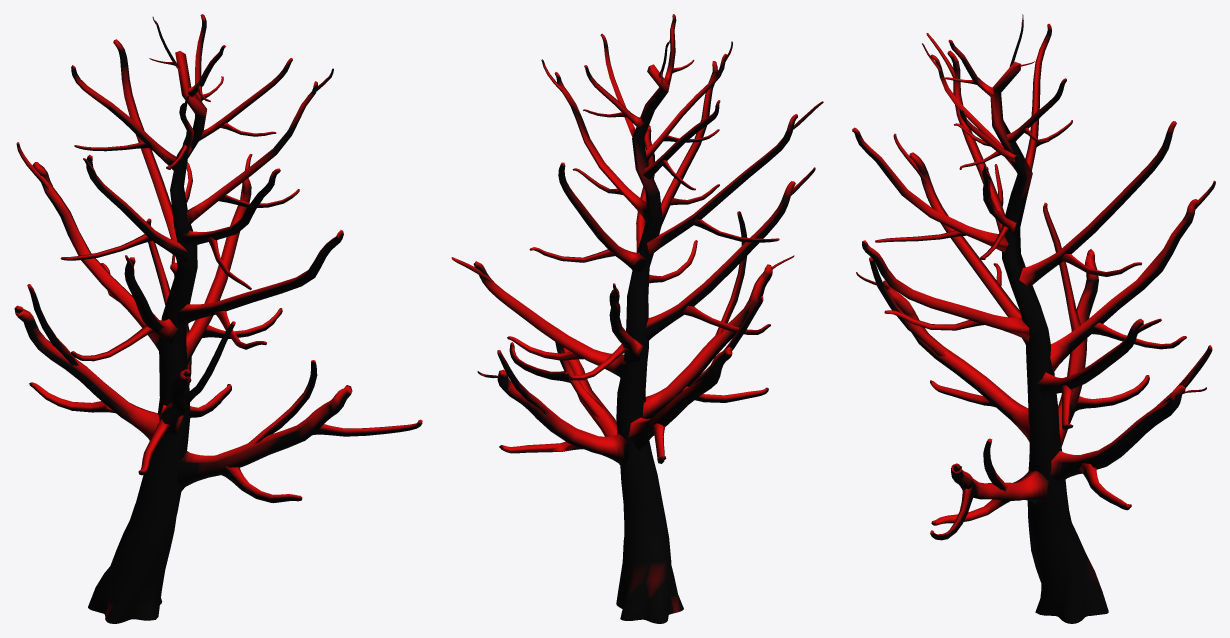
File: dead.glb
3 renders of one model, left to right at view 1: azimuth 30°, elevation 25°; view 2: azimuth 150°, elevation 25°; view 3: azimuth 270°, elevation 25°, orthographic. The views are drawn at different scales.
Parts seen in each view (by area): view 1: DeadTree_2; view 2: DeadTree_2; view 3: DeadTree_2.
Part boxes in pixels (left/top/right/bottom): DeadTree_2: left=14, top=14, right=422, bottom=623; DeadTree_2: left=451, top=14, right=823, bottom=623; DeadTree_2: left=852, top=14, right=1215, bottom=623.
Bounding box in the file's own units: 6.73 × 11.49 × 6.38.
